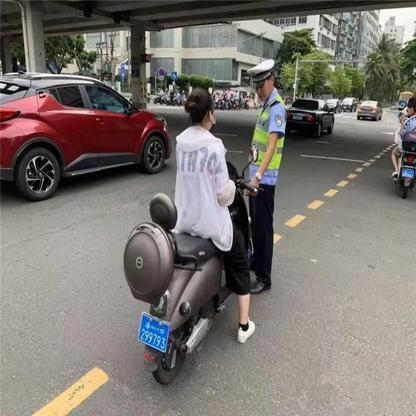target: (122, 86, 254, 384)
